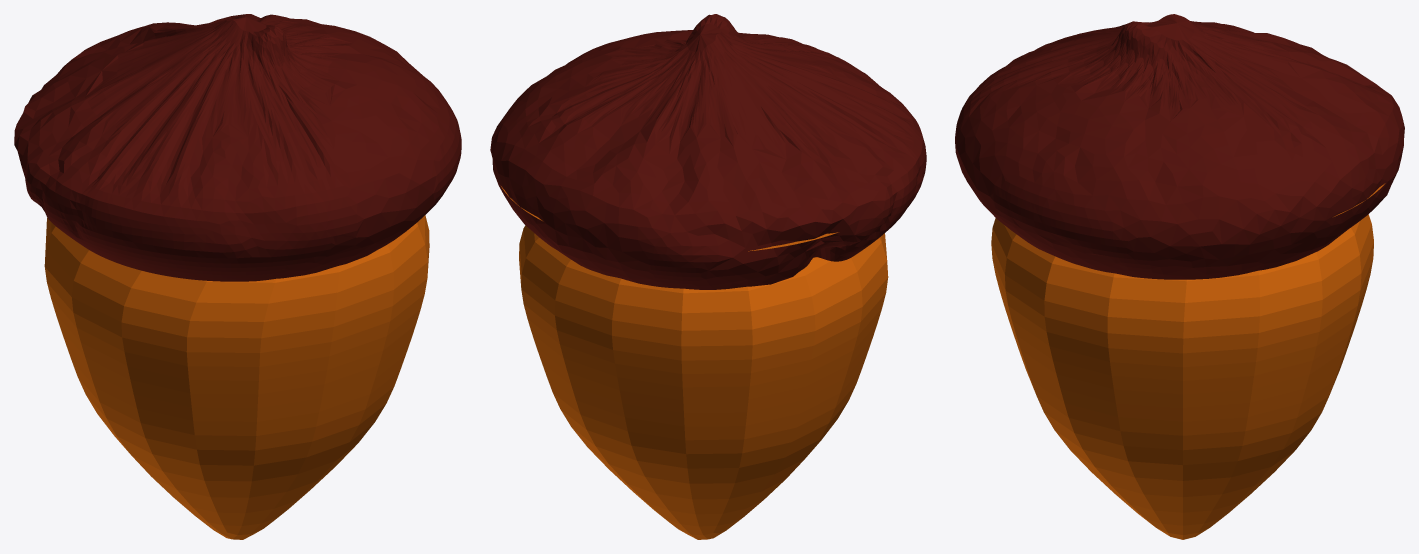
Rendered from noz_pequena.obj.
3 renders of one model, left to right at view 1: azimuth 30°, elevation 25°; view 2: azimuth 150°, elevation 25°; view 3: azimuth 270°, elevation 25°, orthographic. The views are drawn at different scales.
Visible parts, largest first — view 1: cabeca, cabeca.001; view 2: cabeca, cabeca.001; view 3: cabeca, cabeca.001.
Part boxes in pixels (box(x1,y1,x2,y2)): cabeca: box(14, 14, 461, 281); cabeca.001: box(44, 215, 429, 539); cabeca: box(490, 14, 926, 289); cabeca.001: box(501, 186, 888, 539); cabeca: box(955, 14, 1404, 279); cabeca.001: box(991, 183, 1385, 539).
Size of the model in its own units: 0.4658 by 0.5978 by 0.467.
